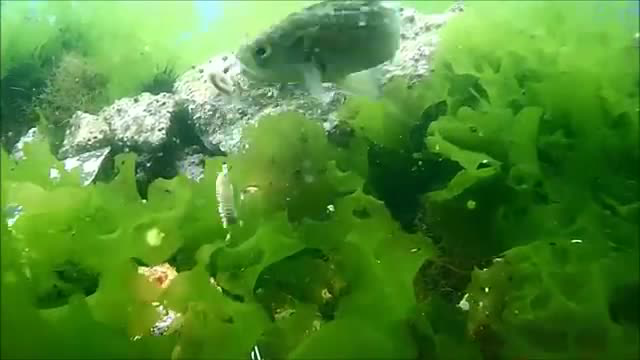mebaru: (226, 2, 416, 101)
